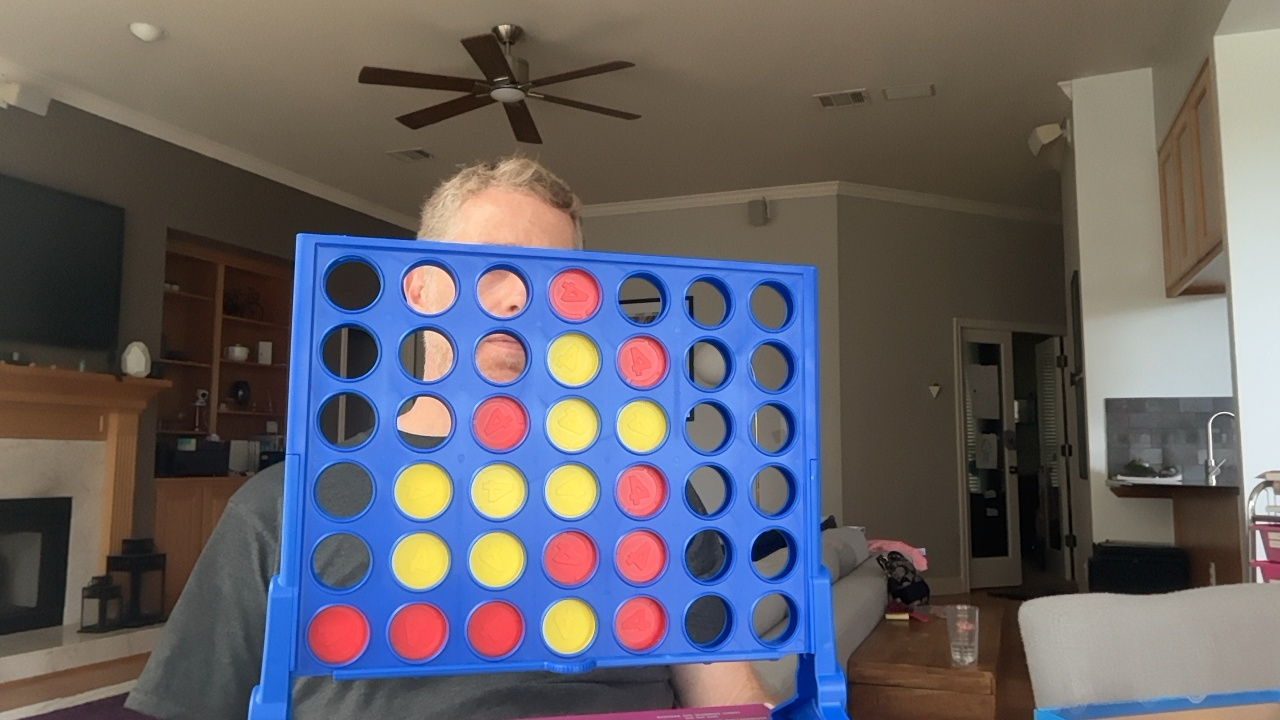red piece: (307, 605, 369, 664), (389, 603, 447, 661), (467, 601, 523, 657), (473, 396, 528, 450), (544, 531, 597, 586), (616, 463, 667, 518), (615, 596, 666, 651), (617, 335, 668, 389), (549, 268, 601, 320), (615, 530, 666, 583)
yellow piece: (391, 532, 449, 590), (394, 462, 452, 519), (469, 531, 525, 588), (542, 598, 597, 655), (471, 463, 526, 519), (545, 463, 598, 519), (547, 332, 600, 386), (546, 398, 599, 451), (617, 400, 667, 452)
